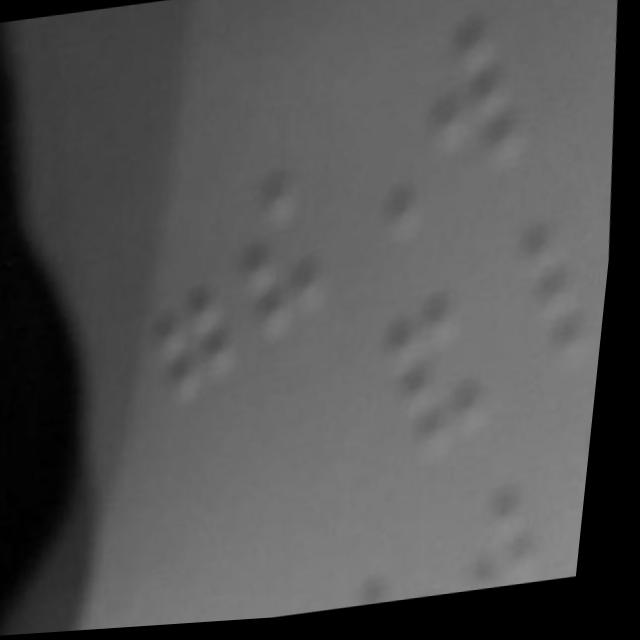braiile: (106, 219, 253, 418), (371, 303, 505, 469), (407, 20, 536, 191), (223, 172, 338, 352), (479, 225, 606, 382)
